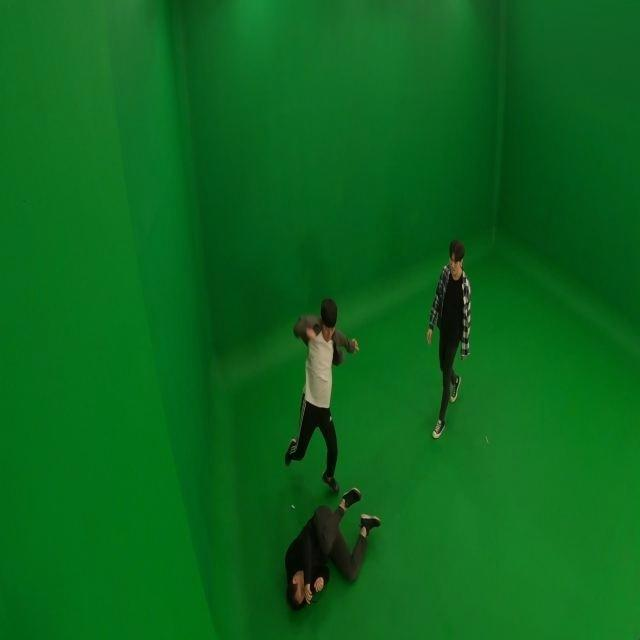fight: (276, 293, 387, 612)
non-fight: (424, 238, 471, 441)
